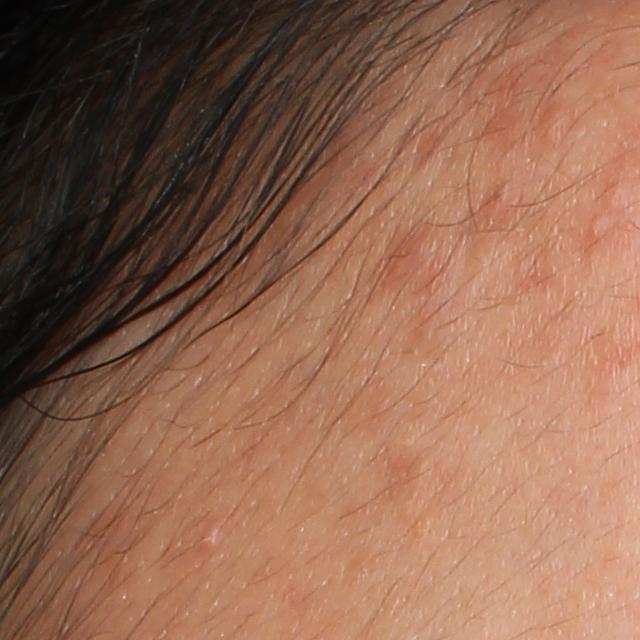papule: (385, 224, 449, 291), (539, 105, 573, 144)
